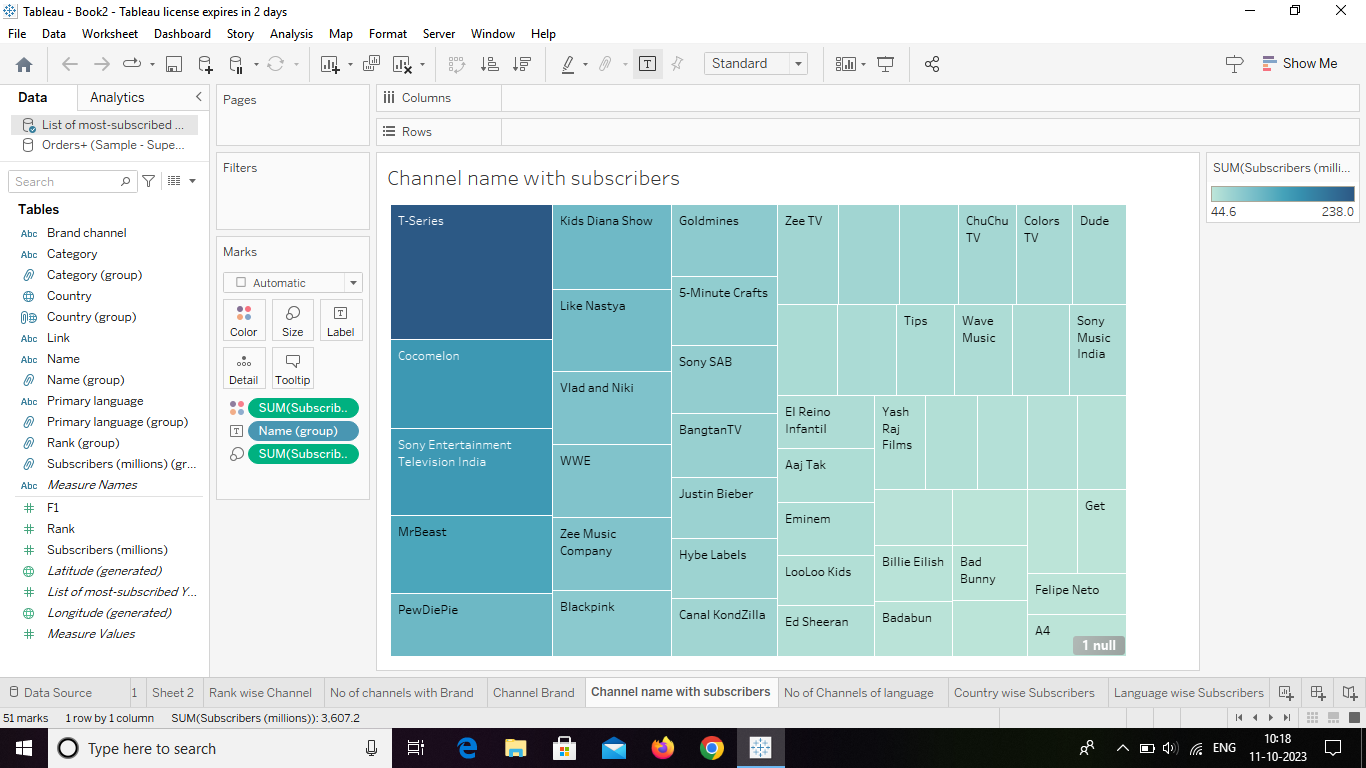

Layout of this report page (visuals, bound fields, positions):
{"tool":"tableau","page":{"name":"Dashboard 2","canvas":[1000,800],"ordinal":1},"visuals":[{"type":"worksheet","title":"Channel name with subscribers","mark":"Automatic","box":[8,8,531,784]},{"type":"worksheet","title":"No of Channels of language","mark":"Circle","box":[539,8,293,784]},{"type":"highlighter","title":"No of Channels of language","param":"[federated.1brki6q0oidhcz17kcslt0rn4pkt].[none:Primary language:nk]","box":[832,8,160,134]},{"type":"highlighter","title":"Channel name with subscribers","param":"[federated.1brki6q0oidhcz17kcslt0rn4pkt].[Name (group)]","box":[832,142,160,52]}]}

Visuals, with their boxes on the page's 1000x800 design canvas (x1, y1, x2, y2). These are canvas units, not pixel positions in the 1366x768 screenshot, which may show the page scaled, cropped or inside an application window:
"Channel name with subscribers" worksheet: locate(8, 8, 539, 792)
"No of Channels of language" worksheet (Circle marks): locate(539, 8, 832, 792)
"No of Channels of language" highlighter: locate(832, 8, 992, 142)
"Channel name with subscribers" highlighter: locate(832, 142, 992, 194)
